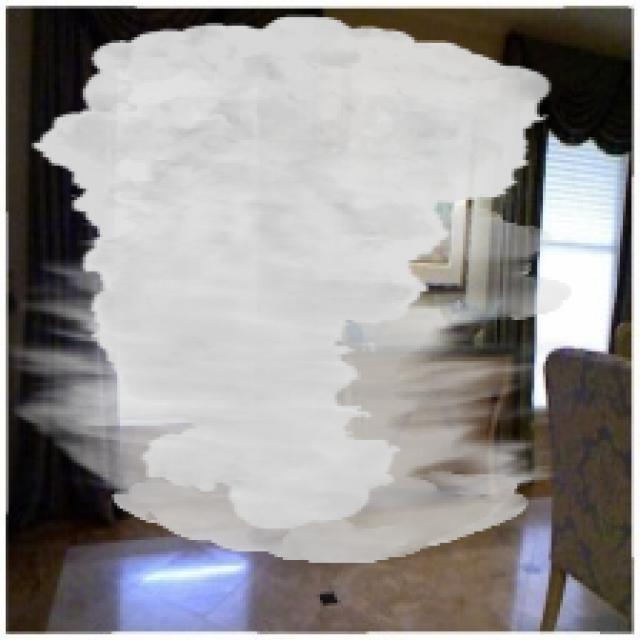Smoke: (9, 14, 572, 563)
